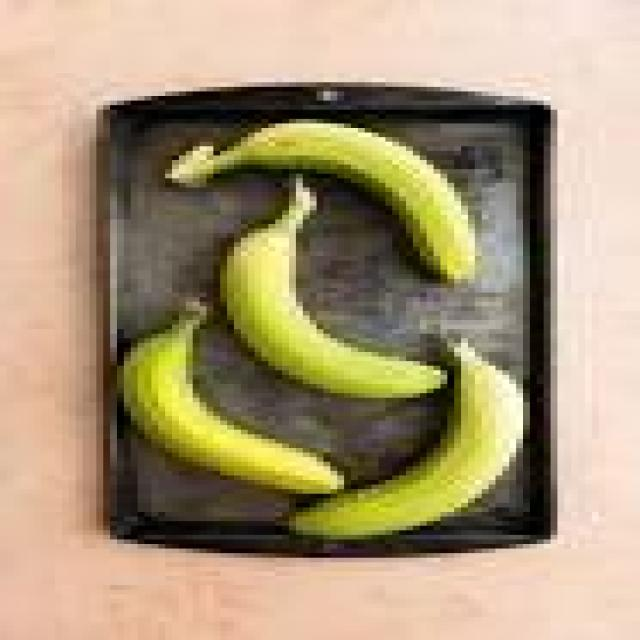banana: (166, 119, 474, 283), (221, 179, 447, 397), (290, 343, 523, 539), (117, 302, 344, 493)
